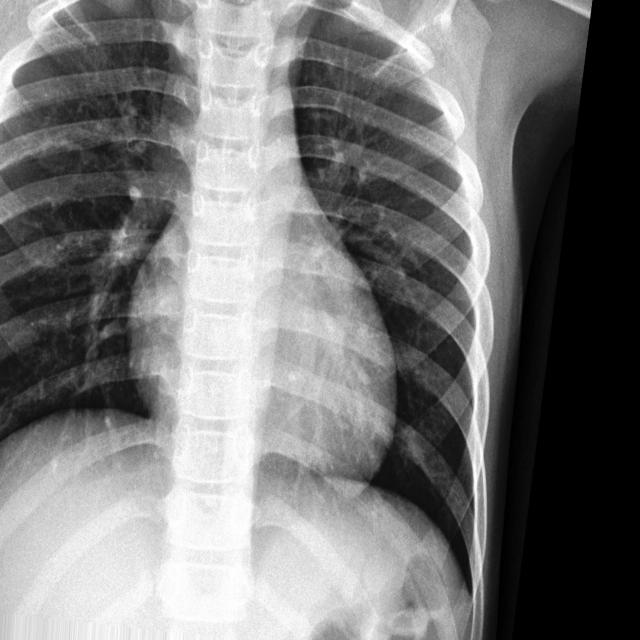normal_lung: (3, 0, 594, 640)
